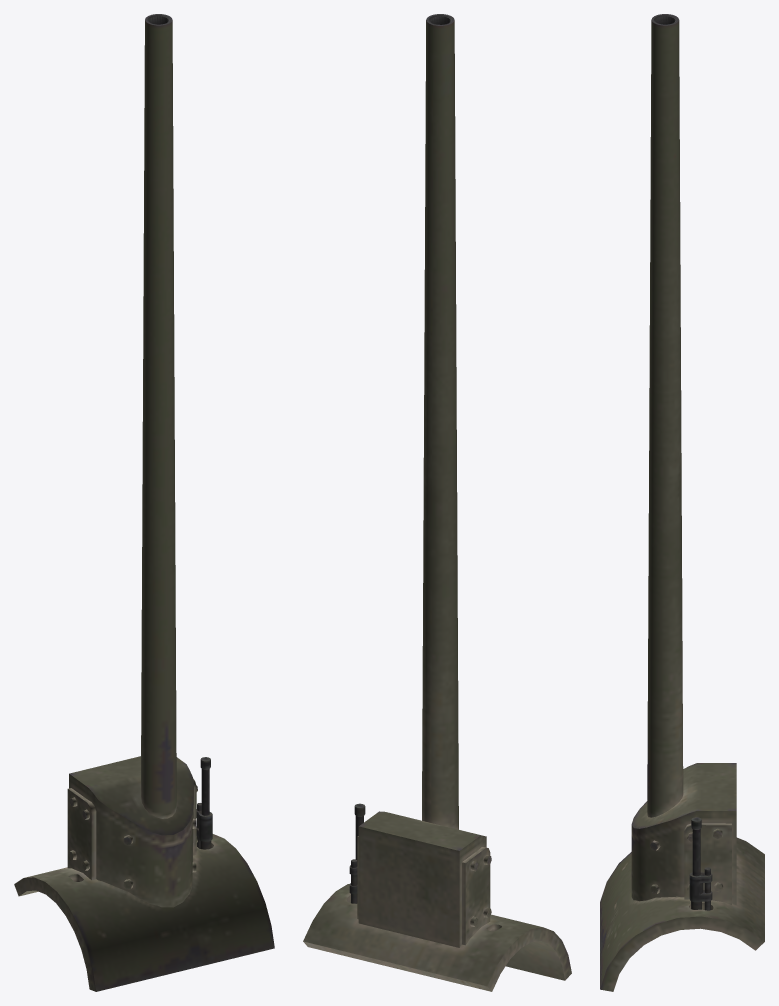
The model's file is Gun_04.glb.
3 renders of one model, left to right at view 1: azimuth 30°, elevation 25°; view 2: azimuth 150°, elevation 25°; view 3: azimuth 270°, elevation 25°, orthographic. The views are drawn at different scales.
Parts seen in each view (by area): view 1: set_0_group_0; view 2: set_0_group_0; view 3: set_0_group_0.
Boxes of the visible parts, x1,y1,x2,y2 form: set_0_group_0: (14, 14, 274, 991); set_0_group_0: (303, 14, 571, 991); set_0_group_0: (600, 14, 764, 991).
Bounding box in the file's own units: 0.5874 × 2.91 × 0.4676.
Materials: 1 (1 with a texture image).
